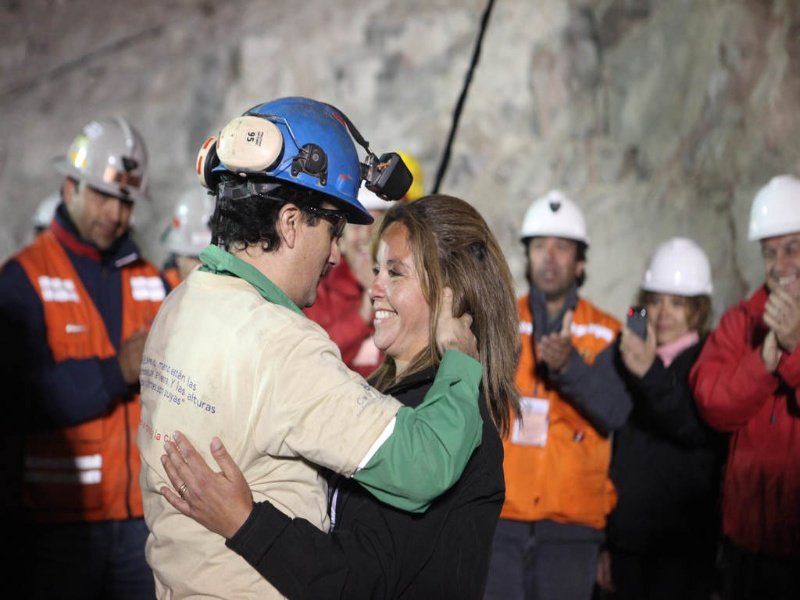helmet: (213, 98, 366, 212), (60, 117, 148, 198), (640, 237, 711, 293), (748, 175, 799, 243), (517, 190, 585, 240)
jacket: (18, 230, 165, 526), (508, 298, 617, 521)
